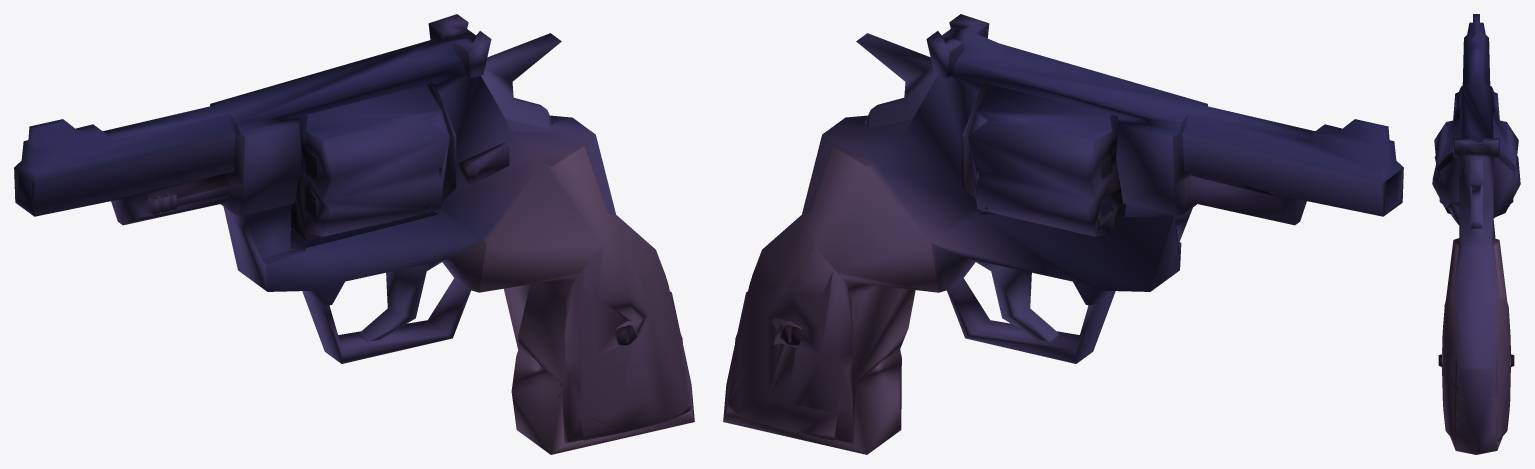
The model's file is model.progressive.glb.
3 renders of one model, left to right at view 1: azimuth 30°, elevation 25°; view 2: azimuth 150°, elevation 25°; view 3: azimuth 270°, elevation 25°, orthographic. The views are drawn at different scales.
Visible parts, largest first — view 1: material; view 2: material; view 3: material.
Boxes of the visible parts, x1,y1,x2,y2 form: material: [14, 14, 694, 454]; material: [723, 14, 1403, 454]; material: [1432, 14, 1520, 454].
Bounding box in the file's own units: 1.9 × 1.2 × 0.3769.
Materials: 1 (1 with a texture image).
